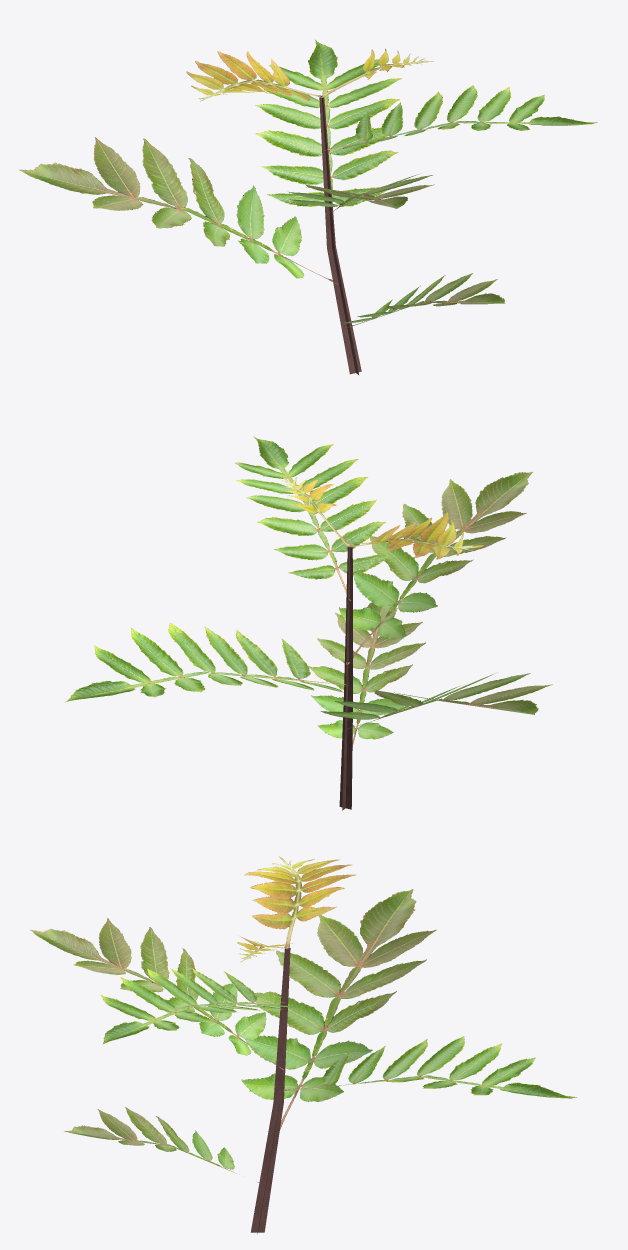
File: m_grass_31_3.fbx
The picture shows the model from 3 angles, top to bottom: view 1: azimuth 30°, elevation 25°; view 2: azimuth 150°, elevation 25°; view 3: azimuth 270°, elevation 25°; orthographic projection. The views are drawn at different scales.
Visible parts, largest first — view 1: mesh_grass_31_3_LOD0; view 2: mesh_grass_31_3_LOD0; view 3: mesh_grass_31_3_LOD0.
Part boxes in pixels (x1=…): mesh_grass_31_3_LOD0: x1=19, y1=39, x2=597, y2=374; mesh_grass_31_3_LOD0: x1=65, y1=436, x2=552, y2=810; mesh_grass_31_3_LOD0: x1=30, y1=856, x2=577, y2=1234.
Size of what is drawn, in the model's own units: 69.85 by 42.25 by 71.95.
